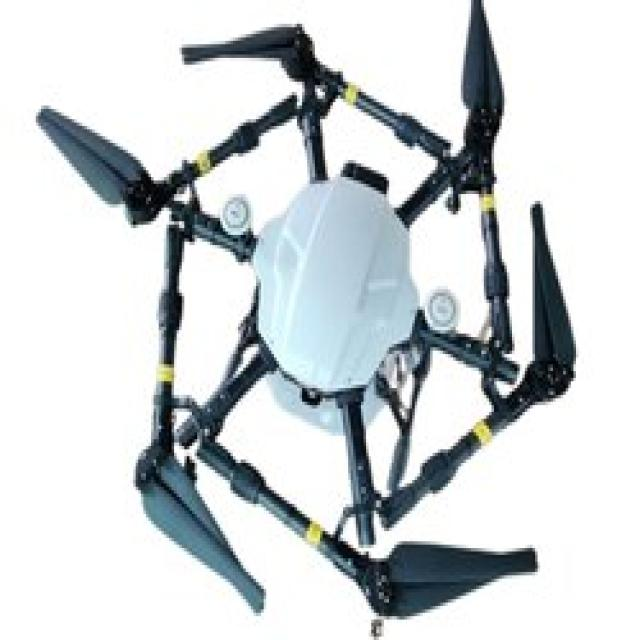drone: (76, 0, 590, 634)
